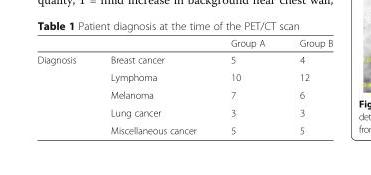table: (36, 37, 332, 135)
table column: (92, 37, 212, 135), (212, 37, 281, 135), (36, 37, 92, 135), (281, 37, 332, 135)
table column header: (36, 37, 332, 50)
table row: (36, 50, 332, 68), (36, 85, 332, 103), (36, 103, 332, 121), (36, 68, 332, 85), (36, 121, 332, 135), (36, 37, 332, 50)
table spanning cell: (36, 50, 92, 135)
